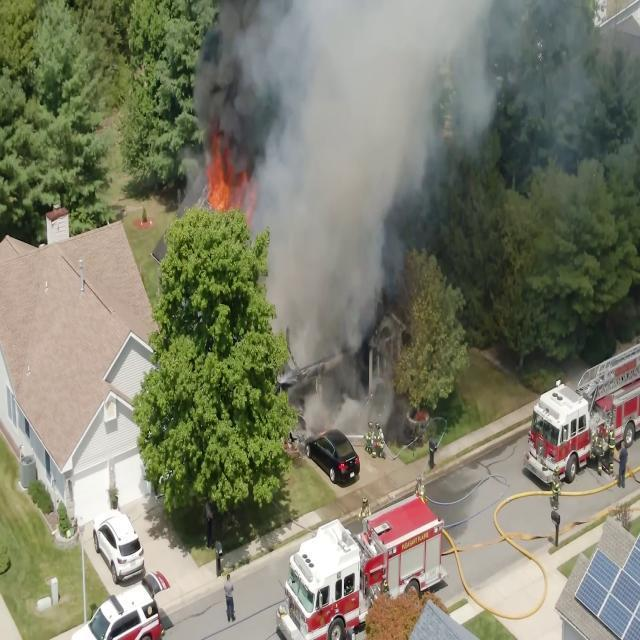Fire: (208, 136, 256, 222)
Smoke: (279, 27, 396, 288), (229, 23, 279, 123)
